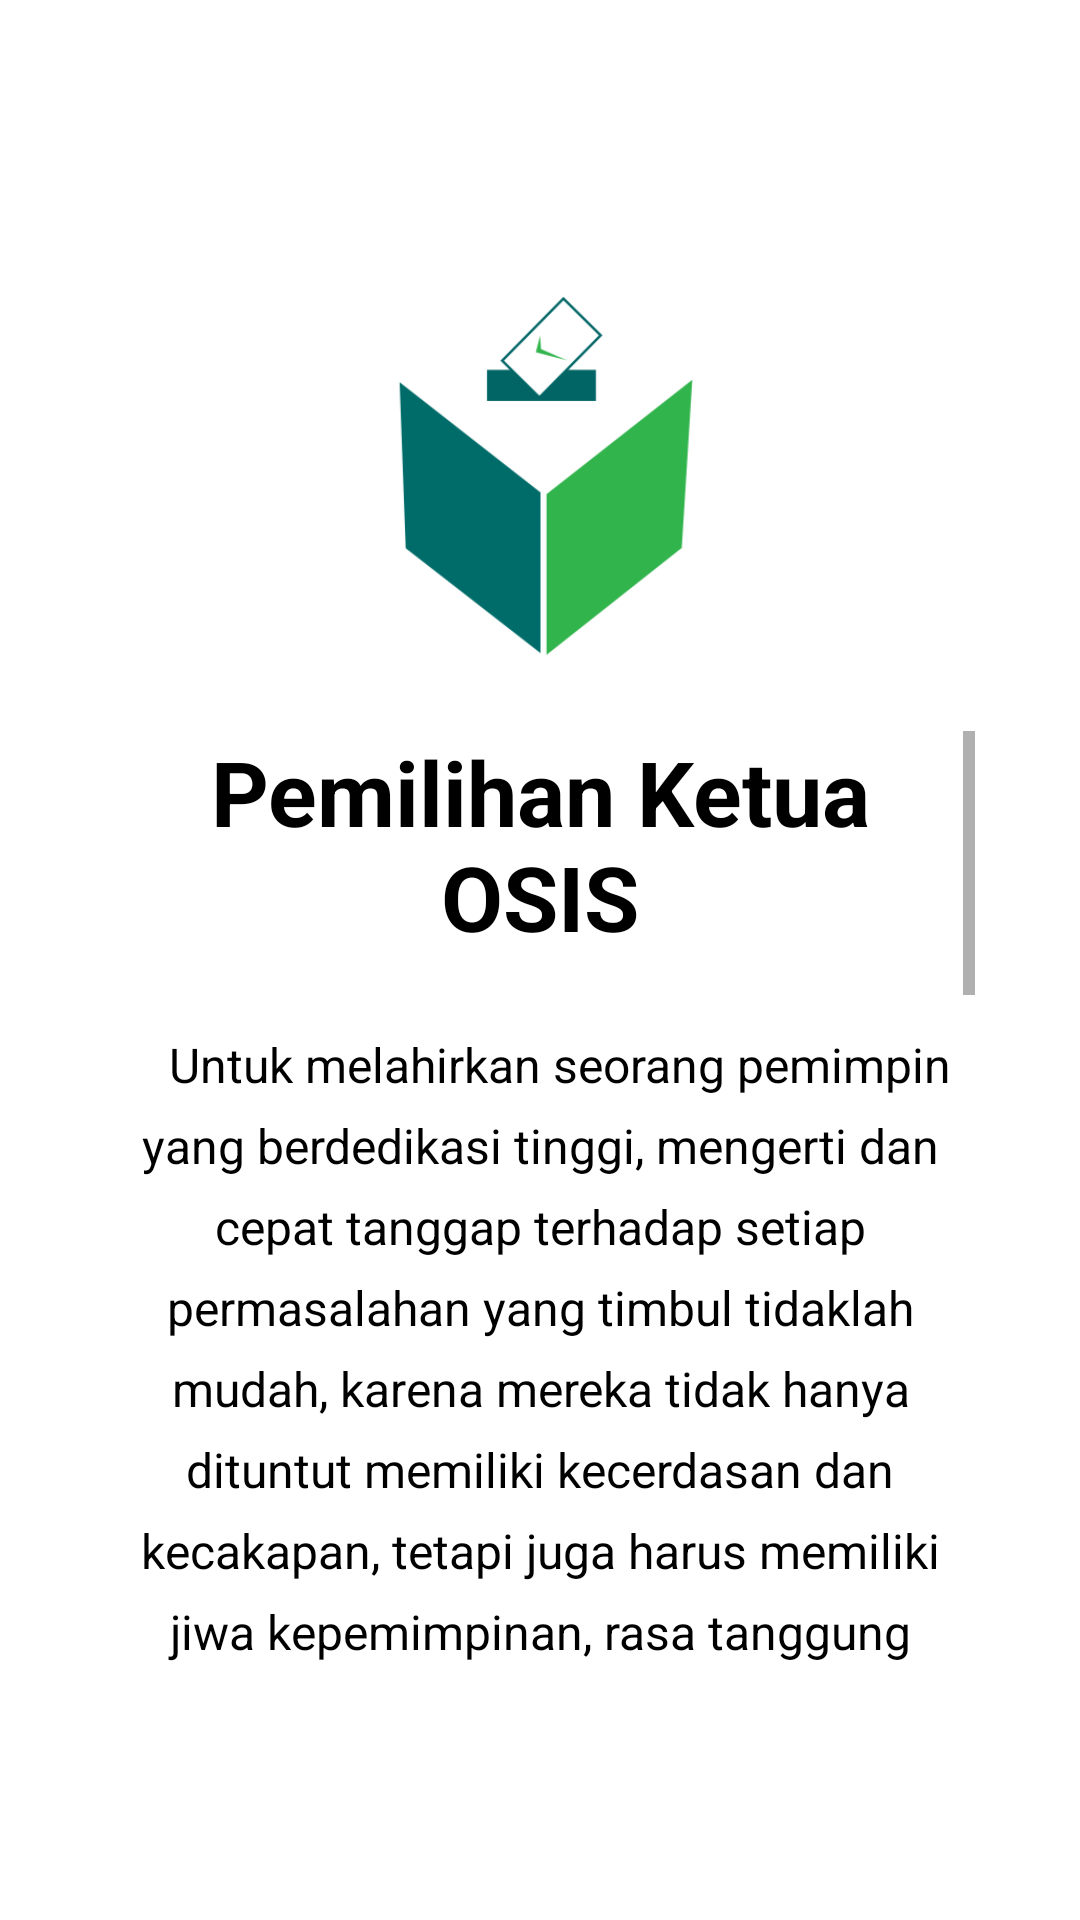

Icons on this 1080 × 1920 Android screen, each with its box as (x1, y1, x2, y2):
ikon: (399, 297, 693, 655)
